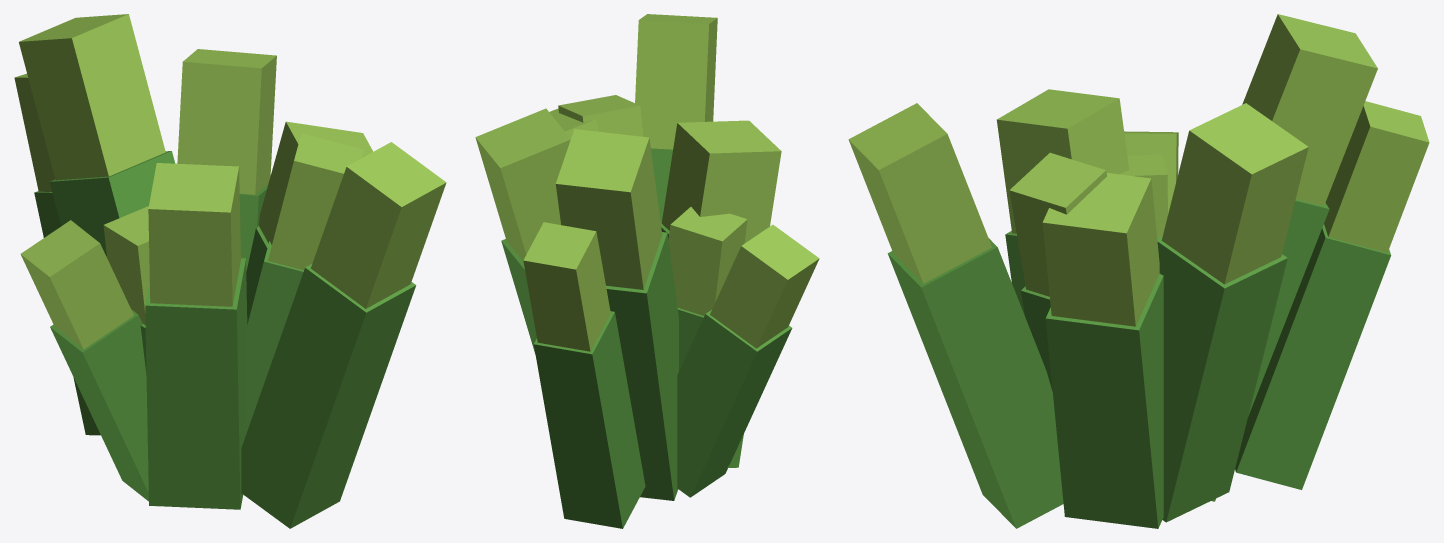
The model's file is B01_grass_short.obj.
3 renders of one model, left to right at view 1: azimuth 30°, elevation 25°; view 2: azimuth 150°, elevation 25°; view 3: azimuth 270°, elevation 25°, orthographic. The views are drawn at different scales.
Parts seen in each view (by area): view 1: B01_grass_short; view 2: B01_grass_short; view 3: B01_grass_short.
Part boxes in pixels (x1,y1,x2,y2): B01_grass_short: (14, 14, 446, 528); B01_grass_short: (475, 14, 819, 528); B01_grass_short: (848, 14, 1429, 528).
Size of the model in its own units: 0.3932 by 0.4829 by 0.577.
